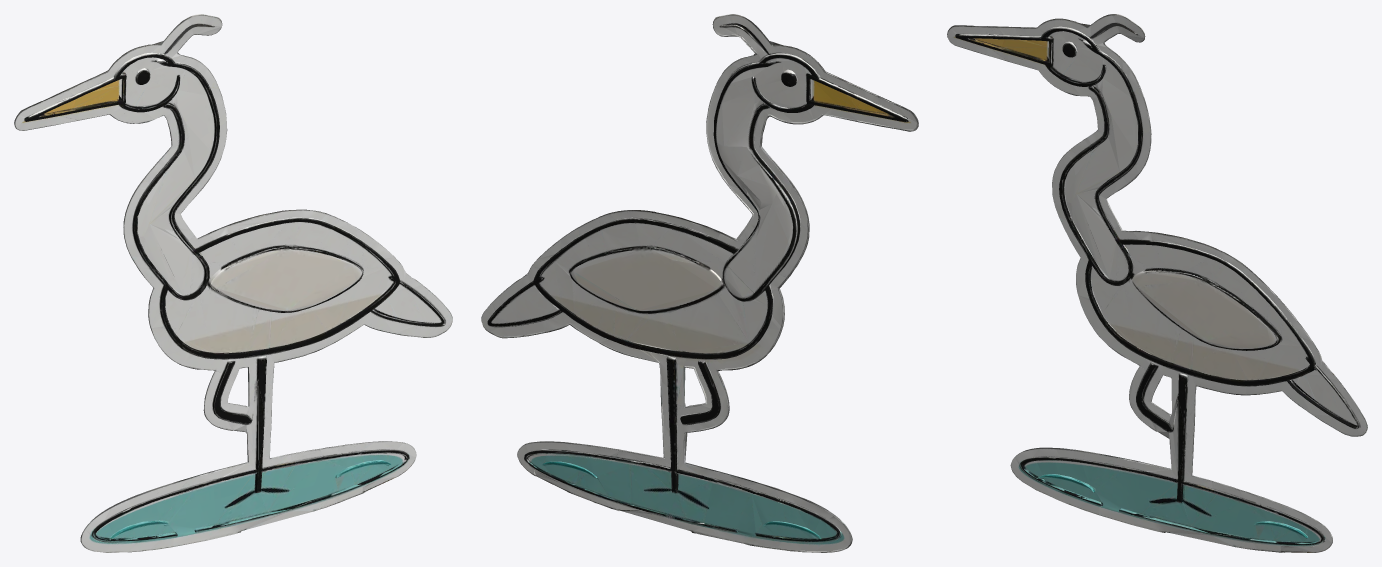
The model's file is garza.glb.
The picture shows the model from 3 angles, left to right: view 1: azimuth 30°, elevation 25°; view 2: azimuth 150°, elevation 25°; view 3: azimuth 330°, elevation 25°; orthographic projection. The views are drawn at different scales.
Bounding box in the file's own units: 1.65 × 1.9 × 0.0429.
1 material, 1 textured.
